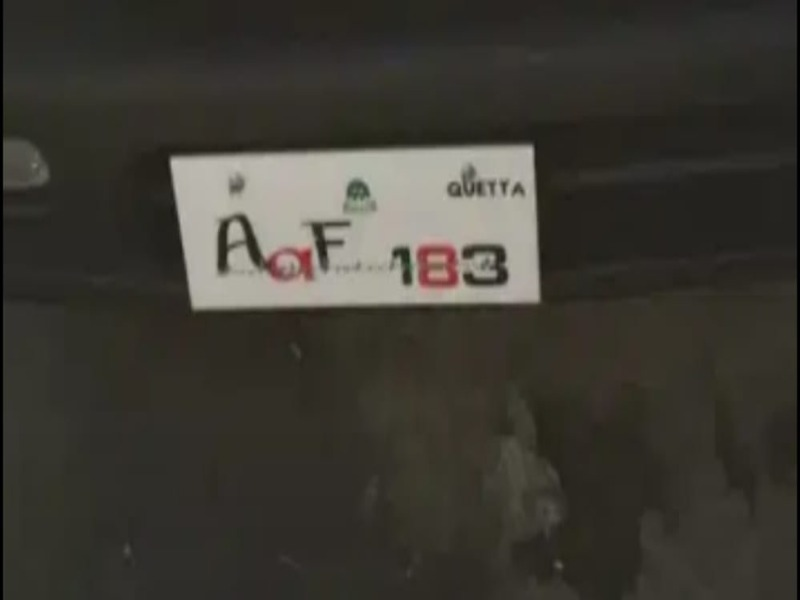License Plate: (167, 142, 541, 313)
